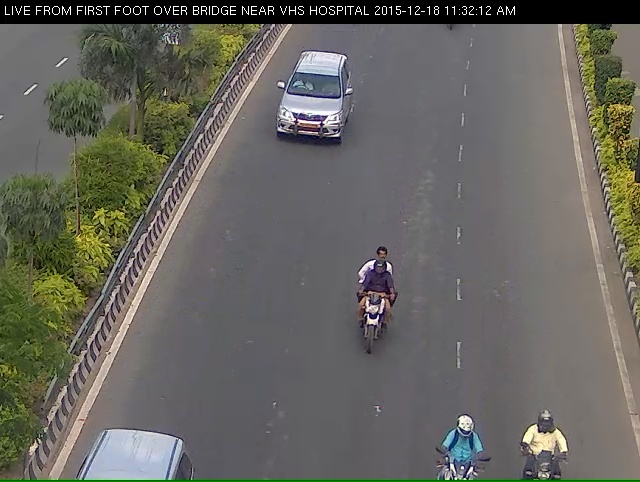Car: (266, 57, 350, 173)
Person: (339, 279, 405, 386)
